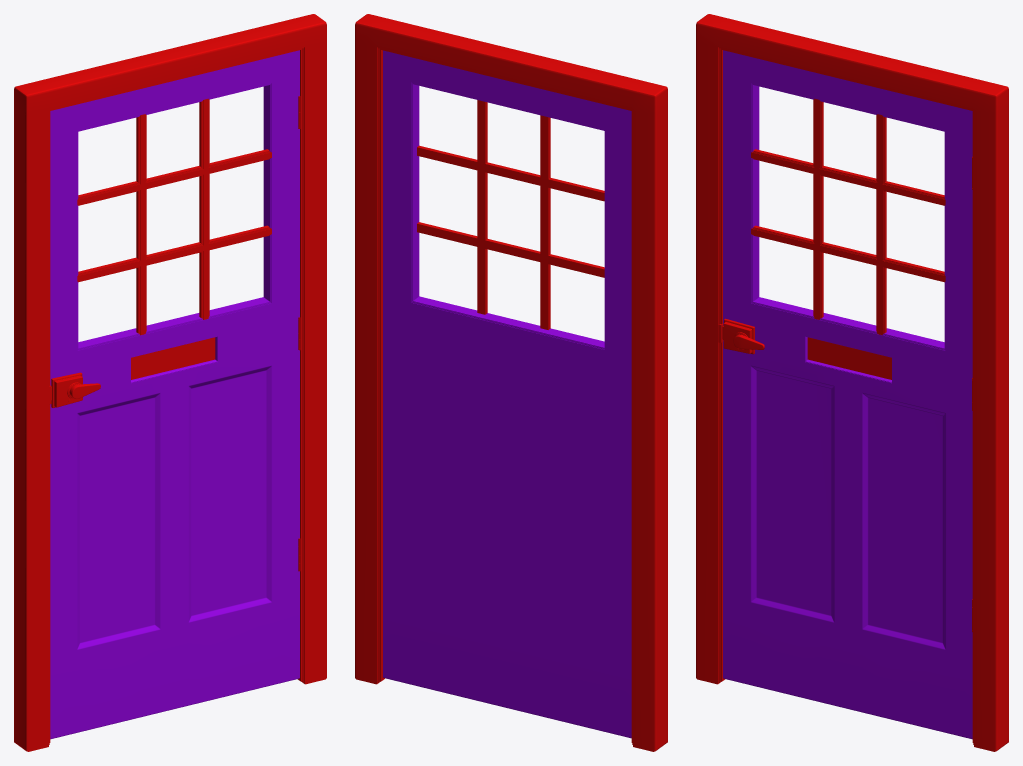
The model's file is Door_Combined.fbx.
The picture shows the model from 3 angles, left to right: view 1: azimuth 30°, elevation 25°; view 2: azimuth 150°, elevation 25°; view 3: azimuth 330°, elevation 25°; orthographic projection.
Visible parts, largest first — view 1: Door3; view 2: Door3; view 3: Door3.
Part boxes in pixels (x1,y1,x2,y2): Door3: (14,14,326,751); Door3: (355,14,667,751); Door3: (696,14,1008,751).
Bounding box in the file's own units: 14.26 × 29.66 × 1.41.
